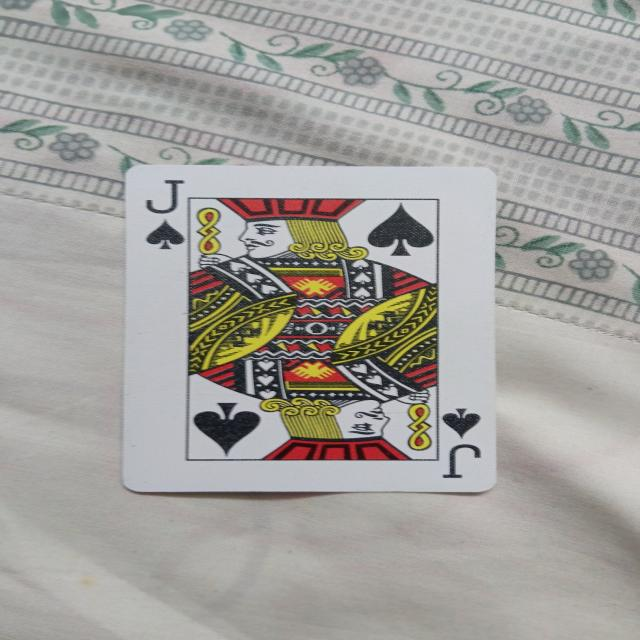JS: (123, 155, 513, 501)
